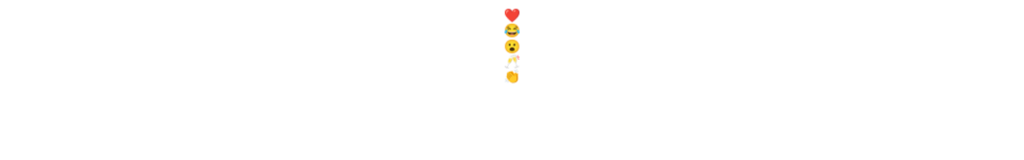
ReactionBar › rolls a refused reaction back and says why in plain words
Click the button named "J’adore": (512, 16) top-left (8, 8), bottom-right (1016, 23)
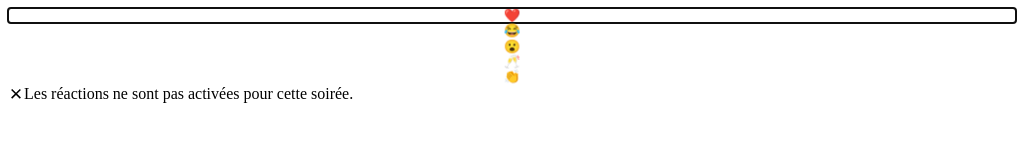
Check: the message reads "Les réactions ne sont pas activées pour cette soirée.", box top-left (24, 85), bottom-right (353, 102)
